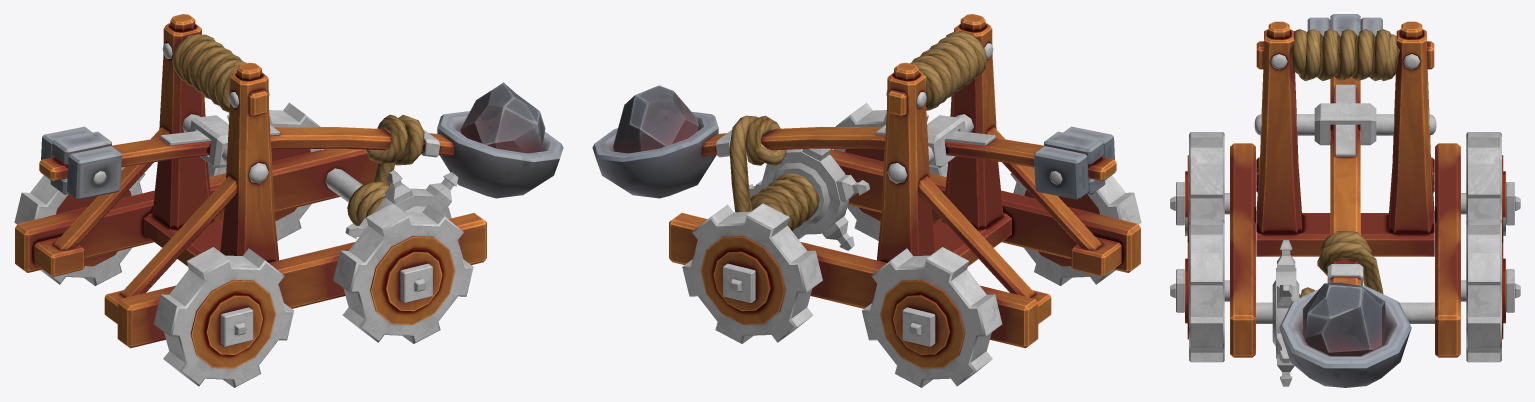
File: catapult_stylized.glb
3 renders of one model, left to right at view 1: azimuth 30°, elevation 25°; view 2: azimuth 150°, elevation 25°; view 3: azimuth 270°, elevation 25°, orthographic.
Visible parts, largest first — view 1: Cube.385, Cube.386; view 2: Cube.385, Cube.386; view 3: Cube.385, Cube.386.
Part boxes in pixels (x1,y1,x2,y2): Cube.385: (14, 14, 563, 387); Cube.386: (172, 34, 424, 225); Cube.385: (592, 14, 1141, 387); Cube.386: (729, 31, 986, 231); Cube.385: (1170, 14, 1520, 387); Cube.386: (1291, 29, 1399, 297).
Size of the model in its own units: 12.23 by 6.32 by 7.33.
2 materials, 2 textured.
